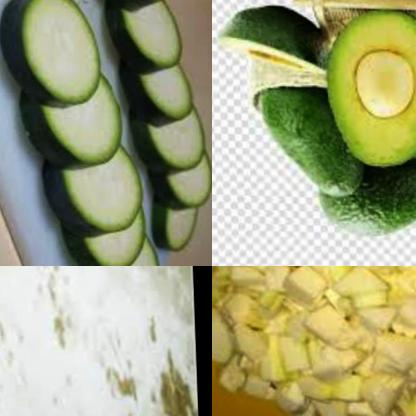avocado: (327, 3, 416, 157), (242, 93, 365, 202), (310, 159, 416, 263), (212, 0, 329, 88)
vegetable marrow: (212, 266, 416, 416), (9, 66, 128, 176), (0, 0, 105, 111), (29, 138, 147, 233), (54, 201, 153, 266), (134, 98, 208, 181), (107, 0, 187, 73), (125, 46, 196, 127), (148, 195, 212, 266), (151, 149, 212, 211), (76, 234, 165, 266)
